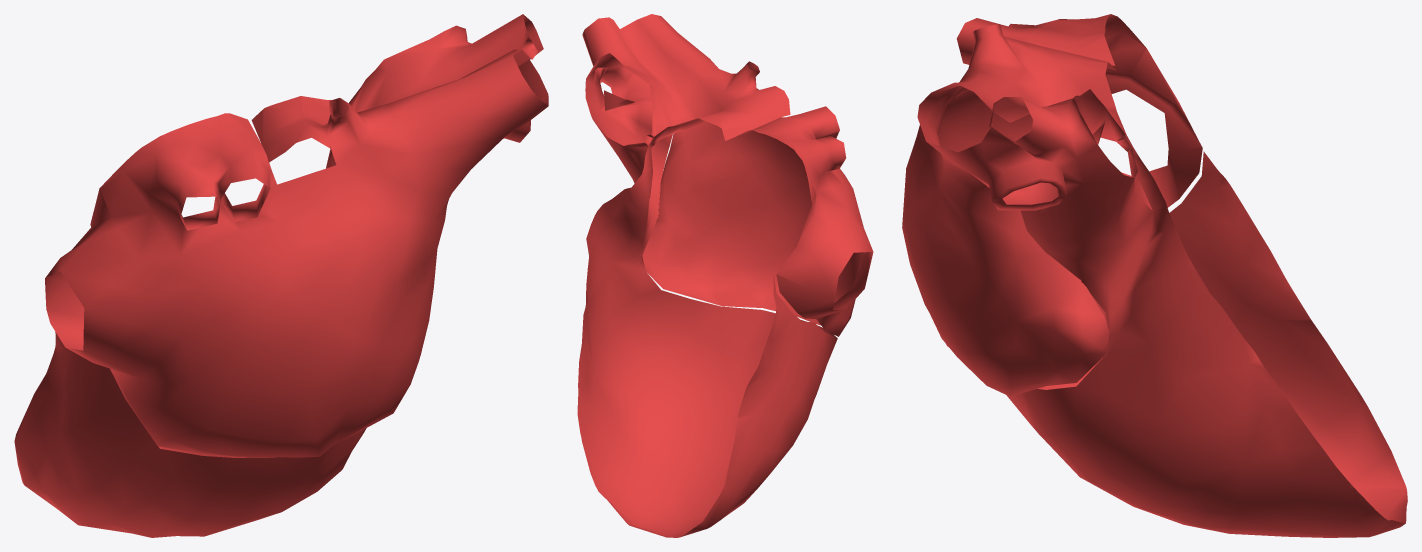
Rendered from heartpart2.fbx.
3 renders of one model, left to right at view 1: azimuth 30°, elevation 25°; view 2: azimuth 150°, elevation 25°; view 3: azimuth 270°, elevation 25°, orthographic. The views are drawn at different scales.
Parts seen in each view (by area): view 1: coeur.001; view 2: coeur.001; view 3: coeur.001.
Part boxes in pixels (box(x1,y1,x2,y2)): coeur.001: box(14, 14, 548, 537); coeur.001: box(577, 14, 873, 537); coeur.001: box(902, 14, 1407, 537).
Size of the model in its own units: 220 by 264 by 216.
